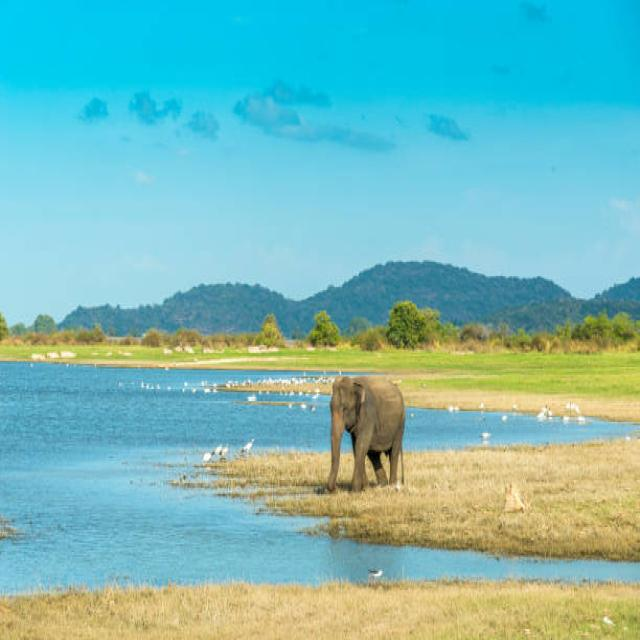Elephant: (321, 367, 419, 522)
